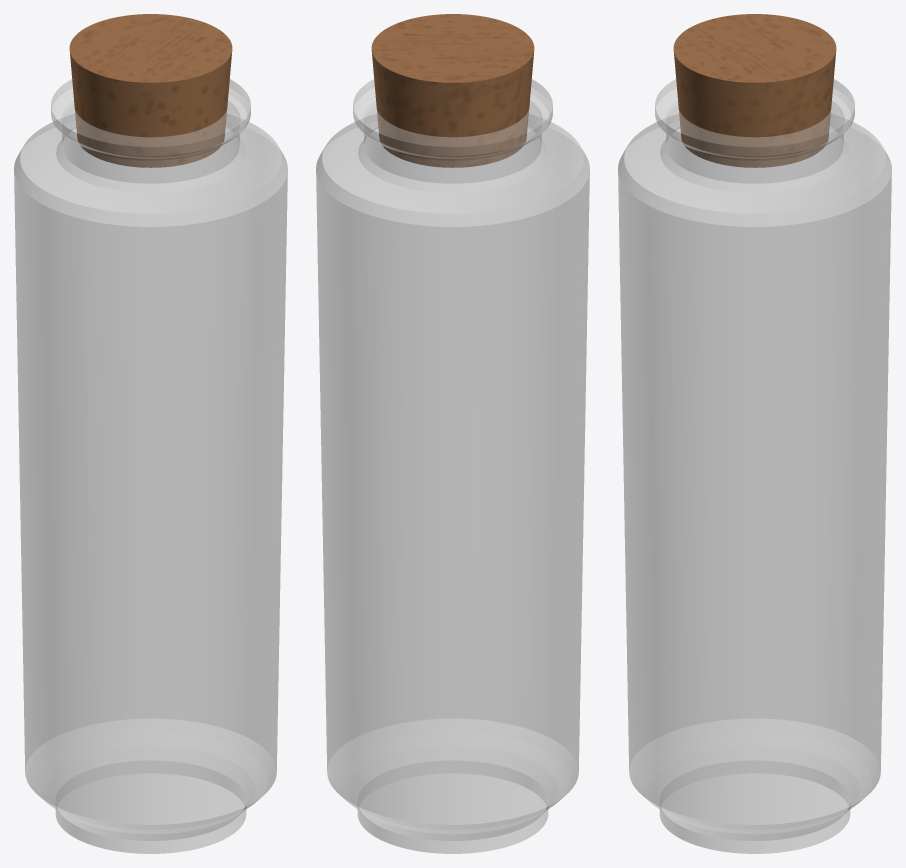
Rendered from vial.glb.
The picture shows the model from 3 angles, left to right: view 1: azimuth 30°, elevation 25°; view 2: azimuth 150°, elevation 25°; view 3: azimuth 270°, elevation 25°; orthographic projection.
Visible parts, largest first — view 1: Vial; view 2: Vial; view 3: Vial.
Boxes of the visible parts, x1,y1,x2,y2 form: Vial: (14,14,287,853); Vial: (316,14,589,853); Vial: (618,14,891,853).
Size of the model in its own units: 0.0506 by 0.156 by 0.0506.
Materials: 2 (1 with a texture image).
